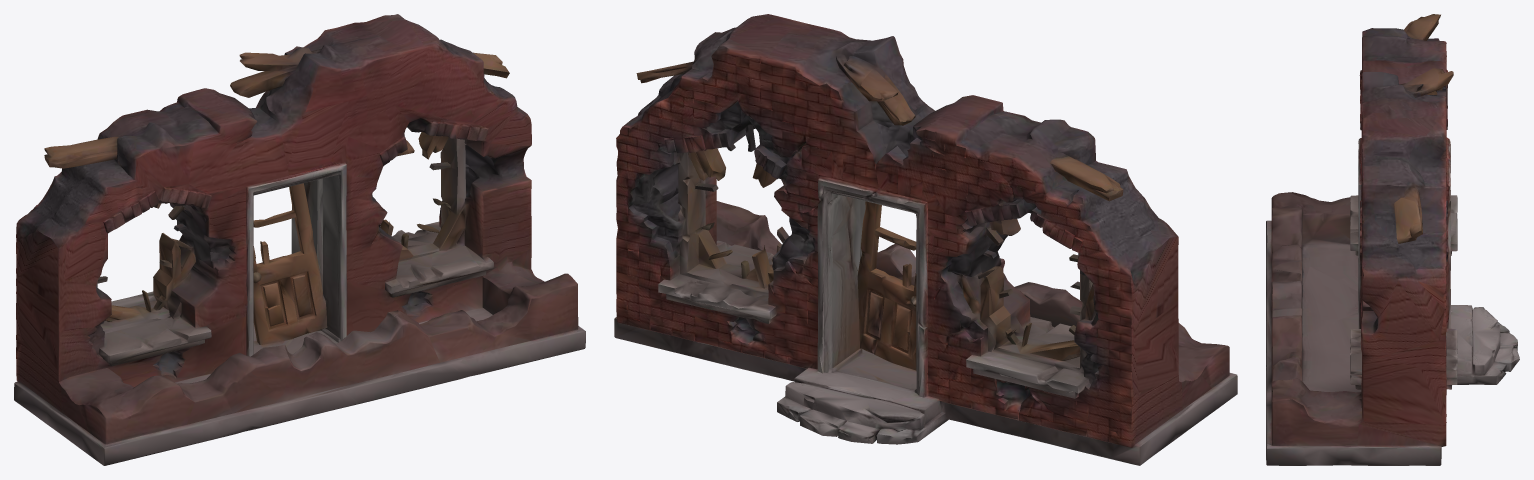
Rendered from facade_brick_door_ruined_idle.glb.
The picture shows the model from 3 angles, left to right: view 1: azimuth 30°, elevation 25°; view 2: azimuth 150°, elevation 25°; view 3: azimuth 270°, elevation 25°; orthographic projection. The views are drawn at different scales.
Parts seen in each view (by area): view 1: tripo_node_08f3d5c0-1a75-4d5e-919a-a07e925fadb9; view 2: tripo_node_08f3d5c0-1a75-4d5e-919a-a07e925fadb9; view 3: tripo_node_08f3d5c0-1a75-4d5e-919a-a07e925fadb9.
Part boxes in pixels (x1=…): tripo_node_08f3d5c0-1a75-4d5e-919a-a07e925fadb9: x1=14, y1=14, x2=585, y2=465; tripo_node_08f3d5c0-1a75-4d5e-919a-a07e925fadb9: x1=614, y1=14, x2=1237, y2=465; tripo_node_08f3d5c0-1a75-4d5e-919a-a07e925fadb9: x1=1266, y1=14, x2=1519, y2=465.
Bounding box in the file's own units: 3 × 1.81 × 1.41.
1 material, 1 textured.
